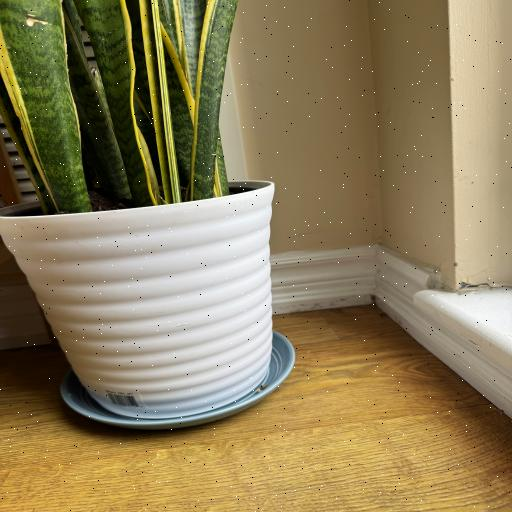Plant Pot: (0, 170, 284, 415)
